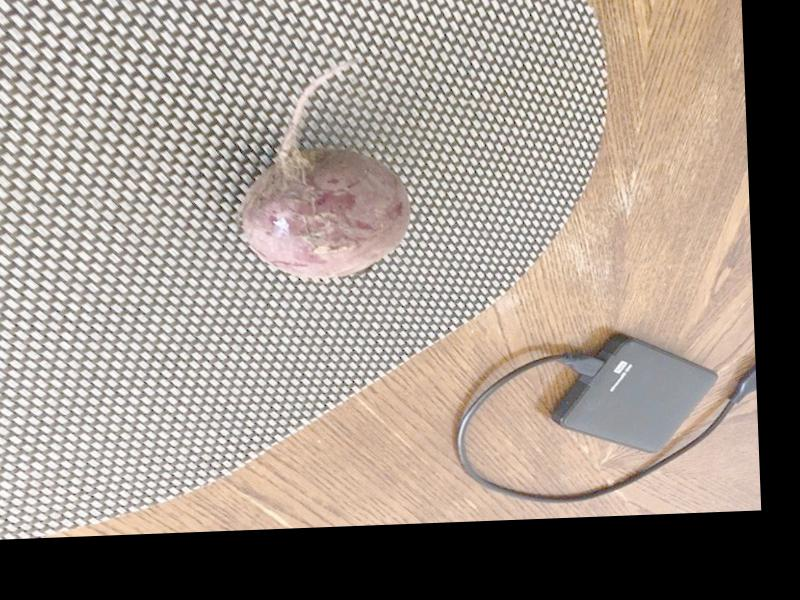Beet: (235, 56, 411, 280)
